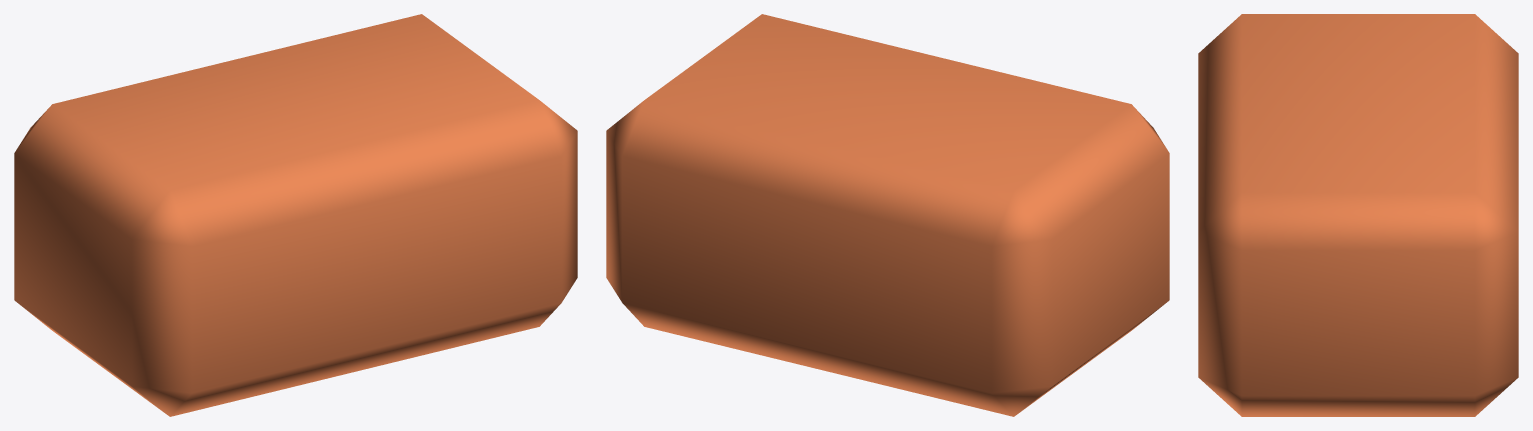
The model's file is brick.glb.
3 views of the same model, side by side, from view 1: azimuth 30°, elevation 25°; view 2: azimuth 150°, elevation 25°; view 3: azimuth 270°, elevation 25° (orthographic).
Visible parts, largest first — view 1: Brick.001; view 2: Brick.001; view 3: Brick.001.
Boxes of the visible parts, bbox=[...] form: Brick.001: bbox=[14, 14, 577, 416]; Brick.001: bbox=[606, 14, 1169, 416]; Brick.001: bbox=[1198, 14, 1518, 416].
Size of the model in its own units: 0.35 by 0.17 by 0.22.
